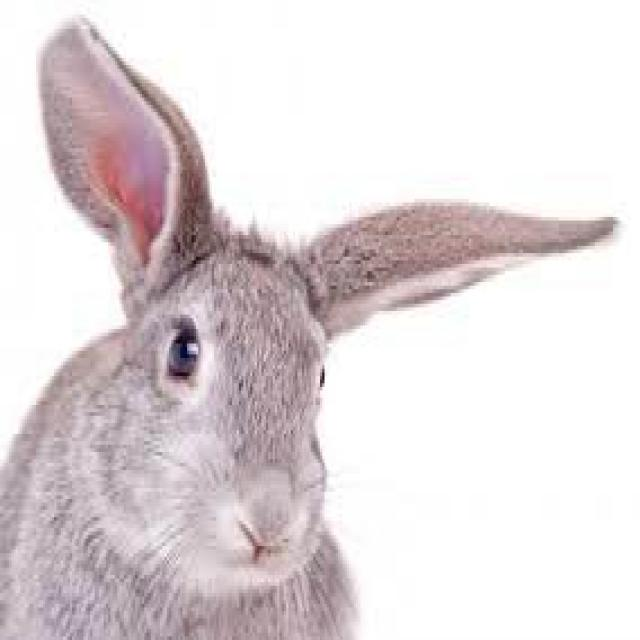hare: (0, 18, 613, 636)
